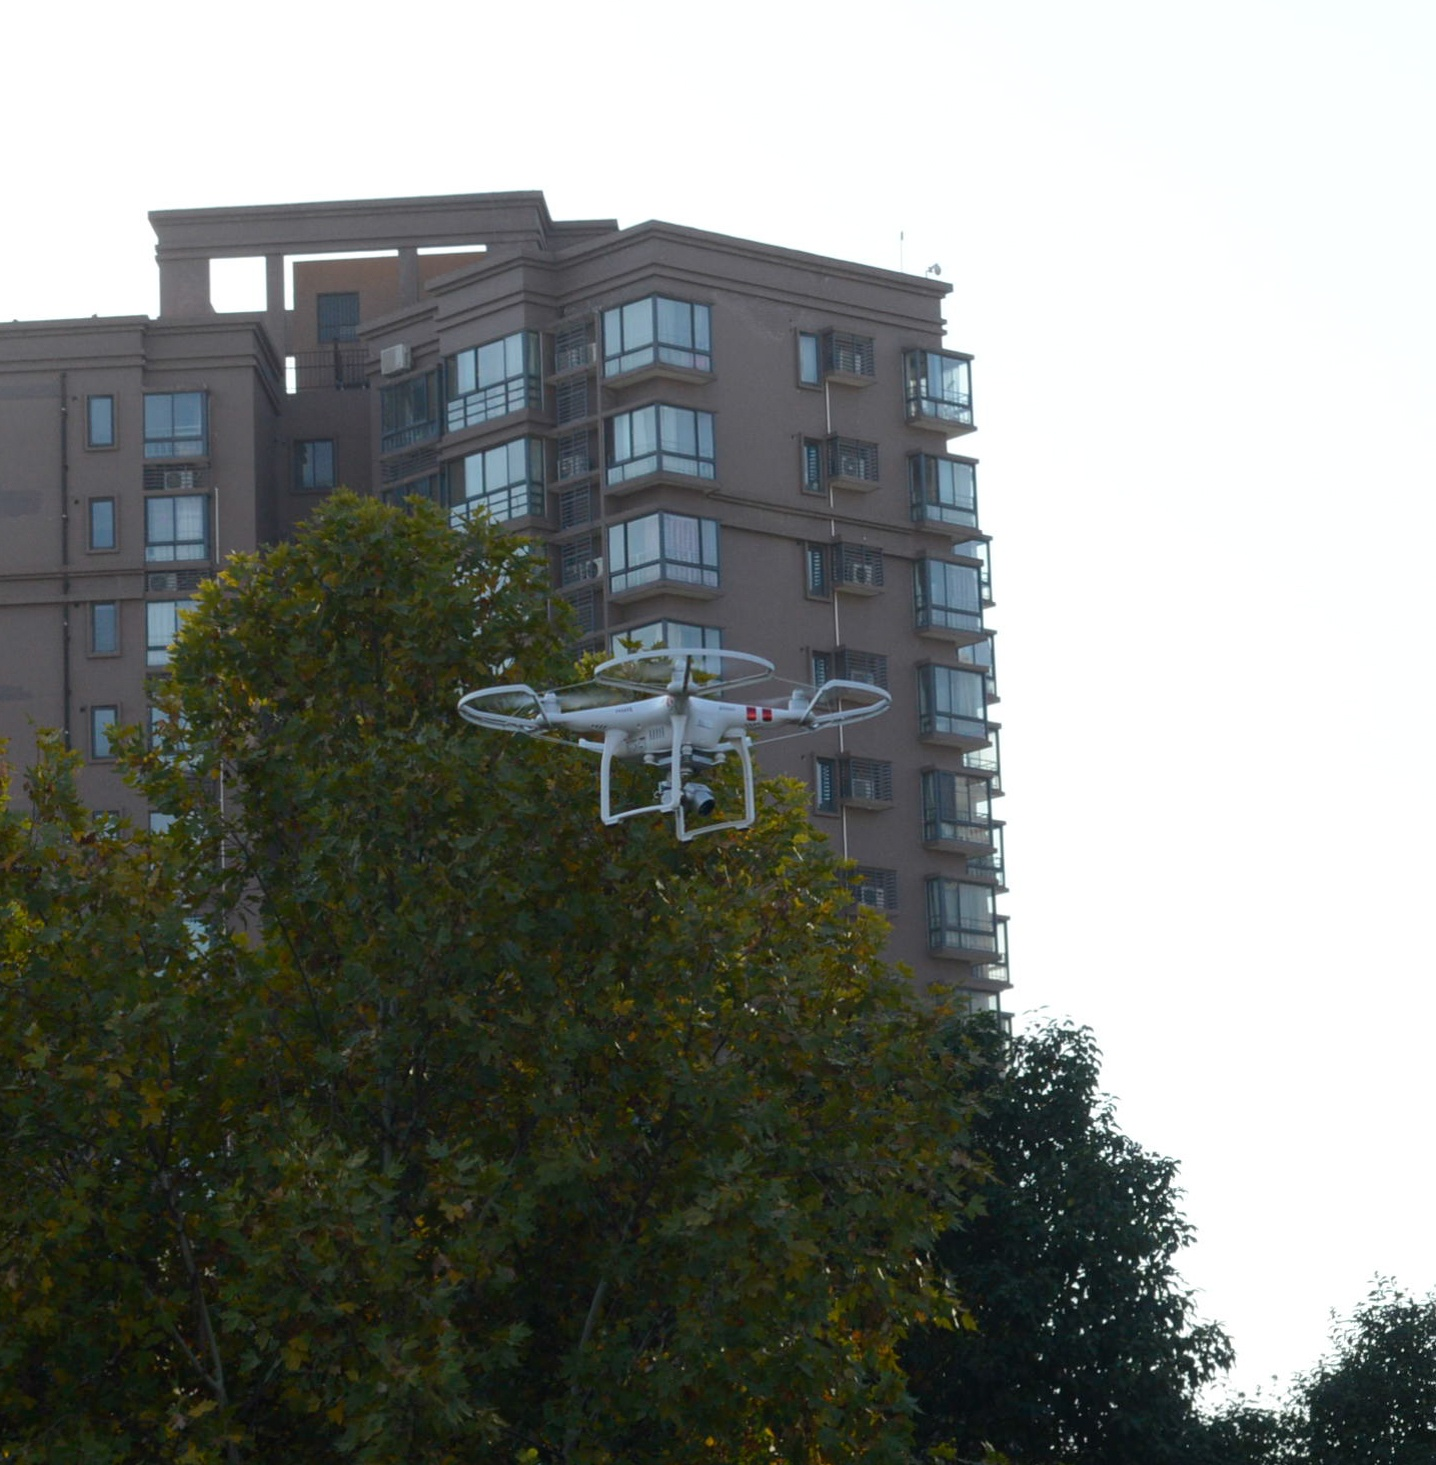DJI: (458, 647, 898, 844)
